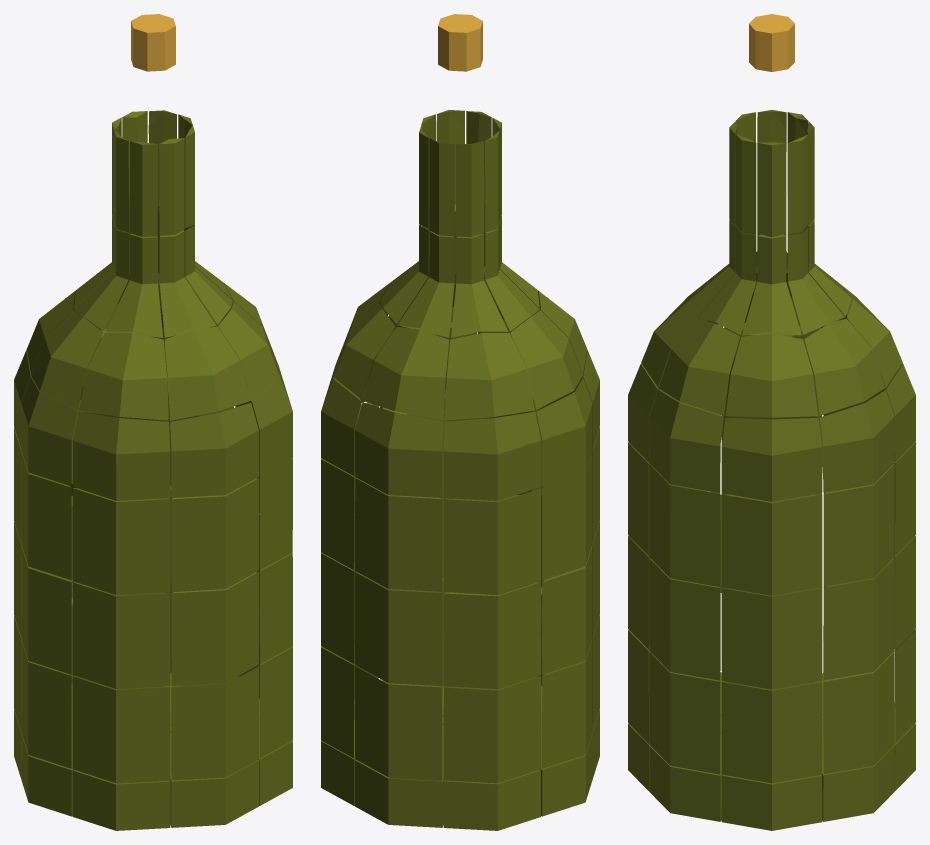
File: bottle-pieces2.fbx
3 views of the same model, side by side, from view 1: azimuth 30°, elevation 25°; view 2: azimuth 150°, elevation 25°; view 3: azimuth 270°, elevation 25° (orthographic).
Parts seen in each view (by area): view 1: bottle_cell.057, bottle_cell.055, bottle_cell.056, bottle_cell.054, bottle_cell.052, bottle_cell.053, bottle_cell.011, bottle_cell.009, bottle_cell.021, bottle_cell.020, bottle_cell.059, bottle_cell.058 (+30 smaller); view 2: bottle_cell.063, bottle_cell.062, bottle_cell.061, bottle_cell.041, bottle_cell.042, bottle_cell.040, bottle_cell.015, bottle_cell.001, bottle_cell.023, bottle_cell.016, bottle_cell.059, bottle_cell.058 (+30 smaller); view 3: bottle_cell.046, bottle_cell.047, bottle_cell.048, bottle_cell.005, bottle_cell.049, bottle_cell.043, bottle_cell.045, bottle_cell.051, bottle_cell.044, bottle_cell.050, bottle_cell.018, bottle_cell.003 (+31 smaller).
Part boxes in pixels (x1=…): bottle_cell.057: x1=72, y1=676, x2=170, y2=783; bottle_cell.055: x1=72, y1=488, x2=170, y2=595; bottle_cell.056: x1=72, y1=582, x2=170, y2=688; bottle_cell.054: x1=171, y1=666, x2=258, y2=780; bottle_cell.052: x1=171, y1=478, x2=258, y2=592; bottle_cell.053: x1=171, y1=572, x2=258, y2=685; bottle_cell.011: x1=73, y1=411, x2=170, y2=500; bottle_cell.009: x1=170, y1=402, x2=258, y2=497; bottle_cell.021: x1=79, y1=332, x2=168, y2=420; bottle_cell.020: x1=164, y1=326, x2=250, y2=420; bottle_cell.059: x1=21, y1=545, x2=71, y2=674; bottle_cell.058: x1=21, y1=451, x2=71, y2=581; bottle_cell.063: x1=443, y1=676, x2=541, y2=783; bottle_cell.062: x1=443, y1=582, x2=541, y2=688; bottle_cell.061: x1=443, y1=488, x2=540, y2=595; bottle_cell.041: x1=355, y1=572, x2=450, y2=688; bottle_cell.042: x1=355, y1=477, x2=442, y2=591; bottle_cell.040: x1=355, y1=666, x2=442, y2=780; bottle_cell.015: x1=443, y1=411, x2=541, y2=500; bottle_cell.001: x1=355, y1=402, x2=443, y2=497; bottle_cell.023: x1=445, y1=333, x2=534, y2=421; bottle_cell.016: x1=363, y1=326, x2=448, y2=420; bottle_cell.059: x1=542, y1=545, x2=592, y2=674; bottle_cell.058: x1=542, y1=451, x2=592, y2=580; bottle_cell.046: x1=721, y1=494, x2=822, y2=595; bottle_cell.047: x1=721, y1=588, x2=822, y2=689; bottle_cell.048: x1=721, y1=682, x2=822, y2=783; bottle_cell.005: x1=721, y1=418, x2=822, y2=501; bottle_cell.049: x1=649, y1=464, x2=724, y2=592; bottle_cell.043: x1=823, y1=464, x2=894, y2=586; bottle_cell.045: x1=823, y1=651, x2=894, y2=773; bottle_cell.051: x1=649, y1=652, x2=720, y2=774; bottle_cell.044: x1=823, y1=558, x2=894, y2=680; bottle_cell.050: x1=649, y1=558, x2=720, y2=680; bottle_cell.018: x1=725, y1=333, x2=818, y2=419; bottle_cell.003: x1=819, y1=390, x2=894, y2=492.
Bounding box in the file's own units: 41.61 × 119 × 41.61.
